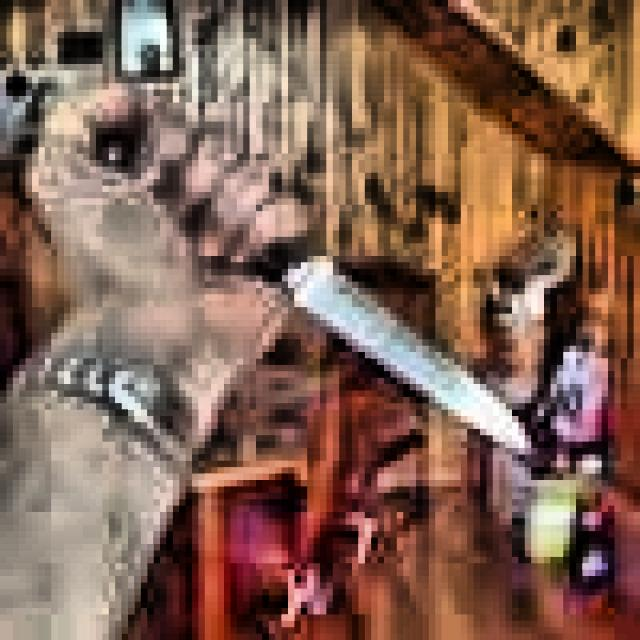knife: (100, 132, 536, 460)
